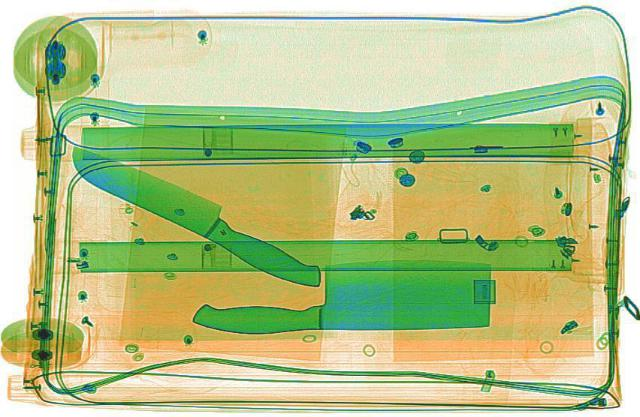Knife: (51, 136, 339, 293), (184, 257, 496, 333)
